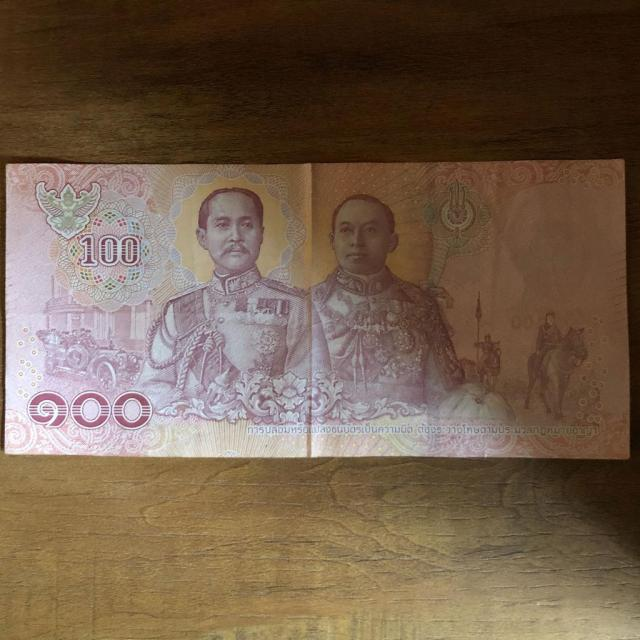THAI100: (4, 160, 629, 459)
